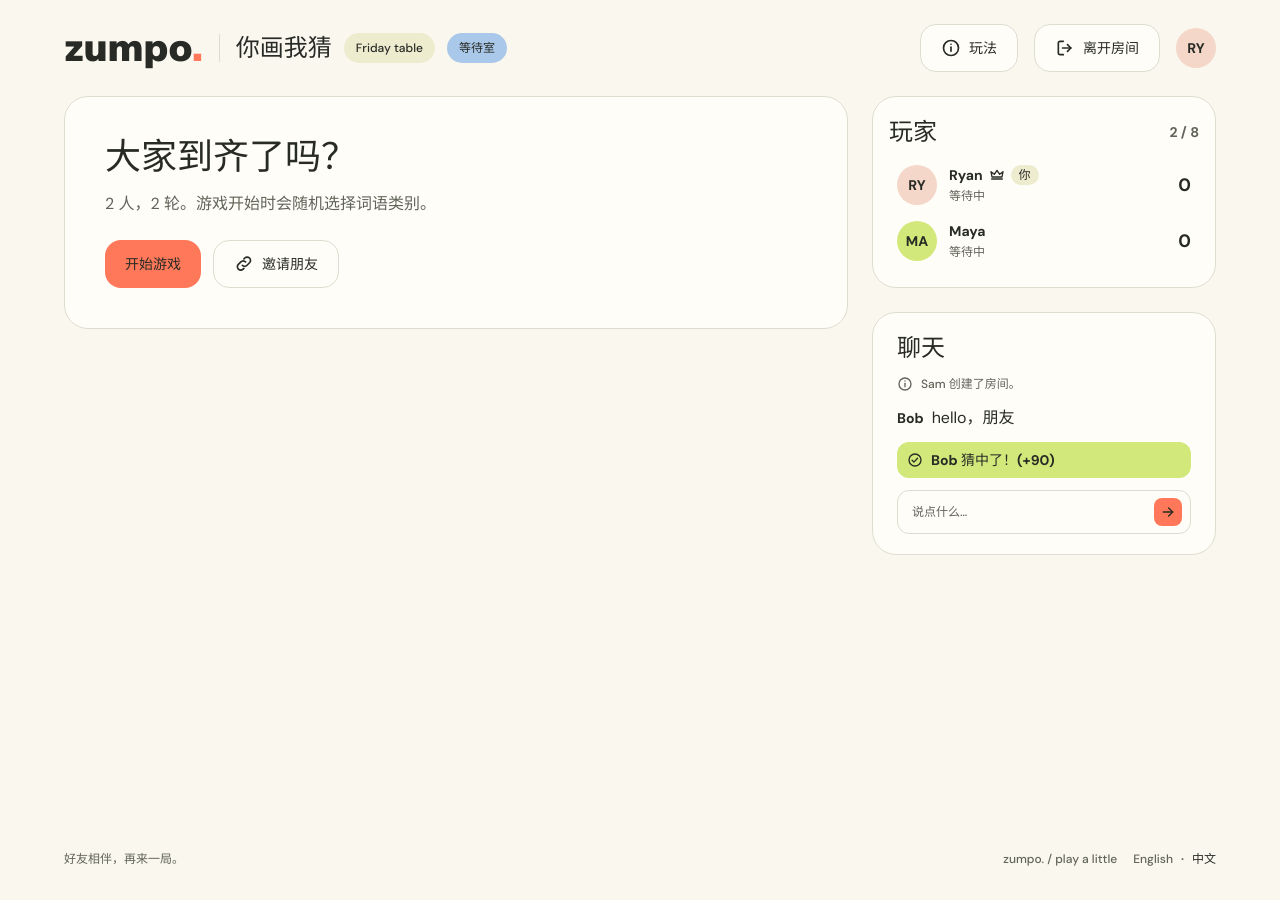
Test: room announcements › rewords both history and new notices after a language switch, keeping player text verbatim
Expected: the text "Sam 创建了房间。" is shown, [921,376,1021,392]
Expected: the text "Bob 猜中了！(+90)" is shown, [931,451,1055,469]
Click the radio button labelled "English": point(1153, 859) [1133,850,1173,868]
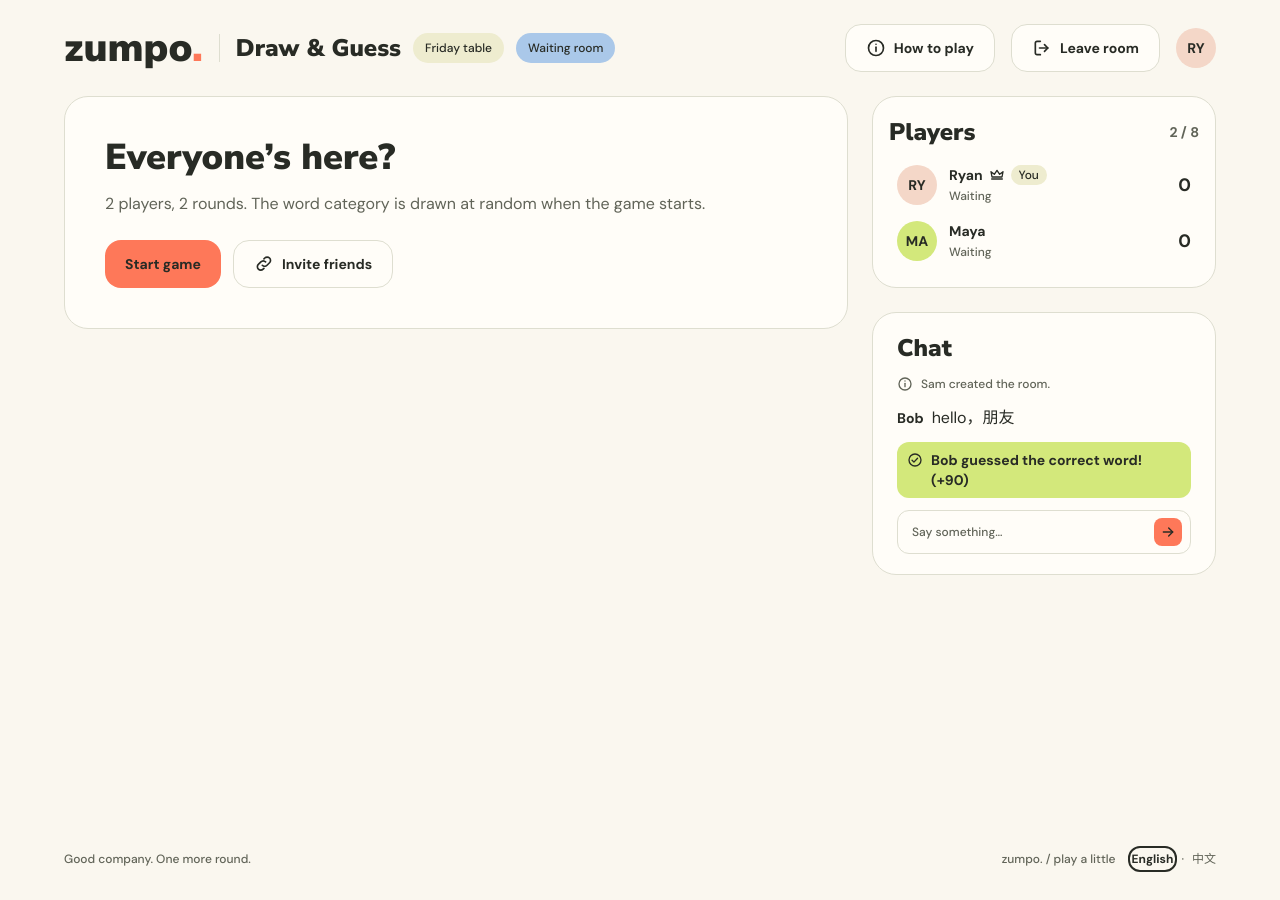
Expected: the text "Sam created the room." is shown, [921,376,1050,392]
Expected: the text "Bob guessed the correct word! (+90)" is shown, [931,451,1142,489]
Expected: the text "Sam 创建了房间。" is gone
